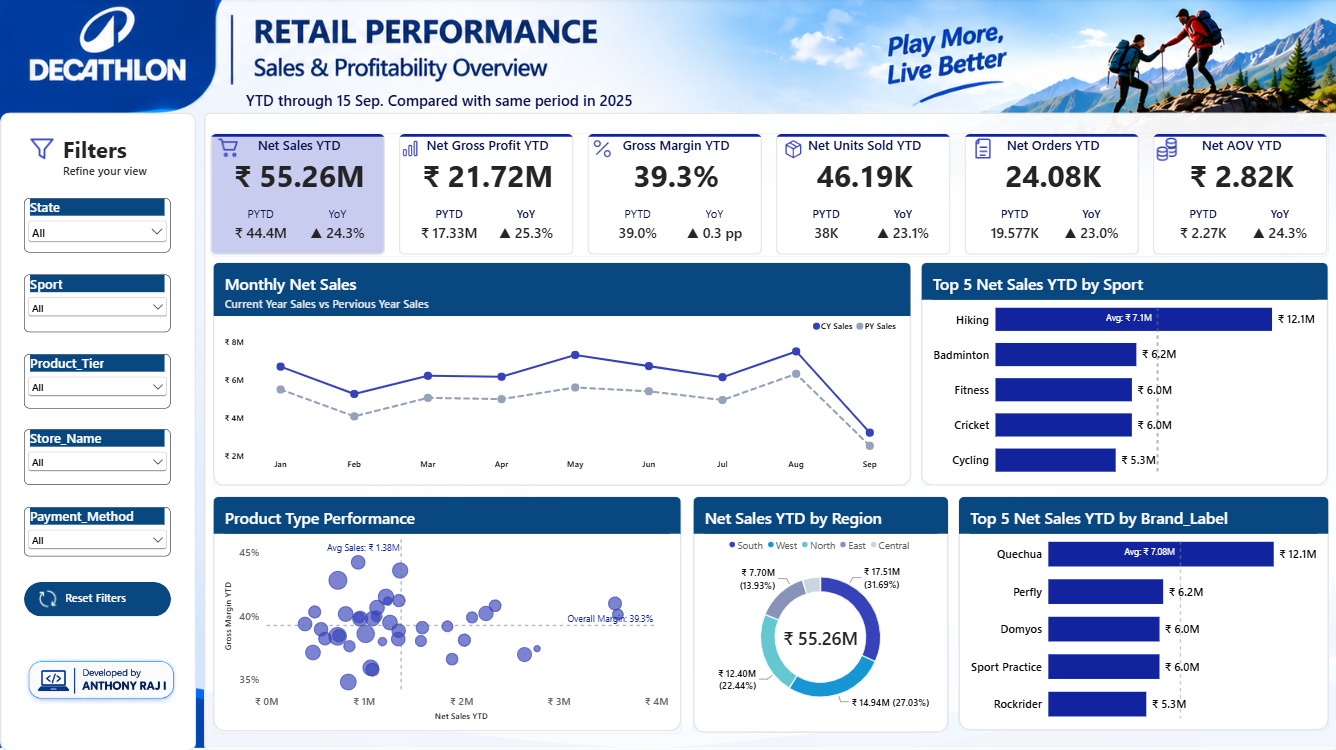

This screenshot's page, from the dashboard's own definition file:
{"tool":"powerbi","page":{"name":"Page 1","canvas":[1920,1080],"ordinal":0},"visuals":[{"type":"shape","box":[0,165.4,281,915.3],"z":0},{"type":"shape","box":[292.8,165.9,1627.4,914.9],"z":1000},{"type":"textbox","box":[351.3,134.2,688,31.7],"z":2000},{"type":"cardVisual","fields":{"Data":["#Measures.Net Sales YTD","#Measures.Net Gross Profit YTD","KPI Measures.Gross Margin YTD","KPI Measures.Net Units Sold YTD","KPI Measures.Net Orders YTD","KPI Measures.Net AOV YTD"]},"box":[300.1,195.2,1603,175.7],"z":3000},{"type":"image","box":[305,195.2,46.4,43.9],"z":4000},{"type":"image","box":[570.9,195.2,34.2,43.9],"z":5000},{"type":"image","box":[844.2,195.2,36.6,43.9],"z":6000},{"type":"image","box":[1119.9,195.2,34.2,43.9],"z":7000},{"type":"image","box":[1388.3,195.2,41.5,43.9],"z":8000},{"type":"image","box":[1649.3,195.2,41.5,43.9],"z":9000},{"type":"shape","box":[305,380.6,1000,320],"z":10000},{"type":"lineChart","title":"Monthly Net Sales","fields":{"Category":["Date Table.Month Name"],"Y":["KPI Measures.CY Sales","KPI Measures.PY Sales"]},"box":[305,380.6,1000.3,319.6],"z":11000},{"type":"shape","box":[1319.9,380.6,583.1,319.6],"z":12000},{"type":"clusteredBarChart","title":"Top 5 Net Sales YTD by Sport","fields":{"Category":["products.Sport"],"Y":["KPI Measures.Net Sales YTD"]},"box":[1319.9,380.6,583.1,319.6],"z":13000},{"type":"shape","box":[305,717.3,670.9,334.3],"z":14000},{"type":"scatterChart","title":"Product Type Performance","fields":{"Category":["products.Product_Type"],"Size":["KPI Measures.Net Orders YTD"],"X":["KPI Measures.Net Sales YTD"],"Y":["KPI Measures.Gross Margin YTD"]},"box":[305.1,715.5,670.4,339.5],"z":15000},{"type":"shape","box":[993,717.3,366,336.7],"z":16000},{"type":"donutChart","title":"Net Sales YTD by Region","fields":{"Category":["store.Region"],"Y":["KPI Measures.Net Sales YTD"]},"box":[993,714.9,366,336.7],"z":17000},{"type":"shape","box":[1372.9,719.8,530.7,330.9],"z":18000},{"type":"textbox","box":[90.2,195.5,165.4,92.4],"z":20000},{"type":"image","box":[36.5,195.5,47.3,45.1],"z":21000},{"type":"slicer","fields":{"Values":["store.State"]},"box":[33.4,287.3,210.1,77.9],"z":22000},{"type":"slicer","fields":{"Values":["products.Sport"]},"box":[33.4,396.5,210.1,82.6],"z":23000},{"type":"slicer","fields":{"Values":["products.Colour"]},"box":[33.4,510.4,210.1,77.9],"z":24000},{"type":"slicer","fields":{"Values":["sales.Promotion"]},"box":[33.4,619.6,210.1,80.3],"z":25000},{"type":"slicer","fields":{"Values":["sales.Payment_Method"]},"box":[33.4,731.1,210.1,70.8],"z":26000},{"type":"actionButton","box":[34.4,837.9,210.6,49.4],"z":27000},{"type":"image","box":[34.4,930.3,221.3,98.8],"z":28001},{"type":"clusteredBarChart","title":"Top 5 Brands by Net Sales YoY %","fields":{"Category":["products.Brand_Label"],"Y":["KPI Measures.Sales Growth %"]},"box":[1372.3,719.4,532.2,335.1],"z":28002}]}

Visuals, with their boxes in screenshot pixels (x1, y1, x2, y2), scaled from the page's 1920x1080 canvas onto the 1336x750 screenshot:
shape: pyautogui.locateOnScreen(0, 115, 196, 749)
shape: pyautogui.locateOnScreen(204, 115, 1335, 749)
textbox: pyautogui.locateOnScreen(244, 93, 723, 115)
cardVisual - #Measures.Net Sales YTD x #Measures.Net Gross Profit YTD: pyautogui.locateOnScreen(209, 136, 1324, 258)
image: pyautogui.locateOnScreen(212, 136, 245, 166)
image: pyautogui.locateOnScreen(397, 136, 421, 166)
image: pyautogui.locateOnScreen(587, 136, 613, 166)
image: pyautogui.locateOnScreen(779, 136, 803, 166)
image: pyautogui.locateOnScreen(966, 136, 995, 166)
image: pyautogui.locateOnScreen(1148, 136, 1177, 166)
shape: pyautogui.locateOnScreen(212, 264, 908, 487)
"Monthly Net Sales" lineChart: pyautogui.locateOnScreen(212, 264, 908, 486)
shape: pyautogui.locateOnScreen(918, 264, 1324, 486)
"Top 5 Net Sales YTD by Sport" clusteredBarChart: pyautogui.locateOnScreen(918, 264, 1324, 486)
shape: pyautogui.locateOnScreen(212, 498, 679, 730)
"Product Type Performance" scatterChart: pyautogui.locateOnScreen(212, 497, 679, 733)
shape: pyautogui.locateOnScreen(691, 498, 946, 732)
"Net Sales YTD by Region" donutChart: pyautogui.locateOnScreen(691, 496, 946, 730)
shape: pyautogui.locateOnScreen(955, 500, 1325, 730)
textbox: pyautogui.locateOnScreen(63, 136, 178, 200)
image: pyautogui.locateOnScreen(25, 136, 58, 167)
slicer - store.State: pyautogui.locateOnScreen(23, 200, 169, 254)
slicer - products.Sport: pyautogui.locateOnScreen(23, 275, 169, 333)
slicer - products.Colour: pyautogui.locateOnScreen(23, 354, 169, 409)
slicer - sales.Promotion: pyautogui.locateOnScreen(23, 430, 169, 486)
slicer - sales.Payment_Method: pyautogui.locateOnScreen(23, 508, 169, 557)
actionButton: pyautogui.locateOnScreen(24, 582, 170, 616)
image: pyautogui.locateOnScreen(24, 646, 178, 715)
"Top 5 Brands by Net Sales YoY %" clusteredBarChart: pyautogui.locateOnScreen(955, 500, 1325, 732)
